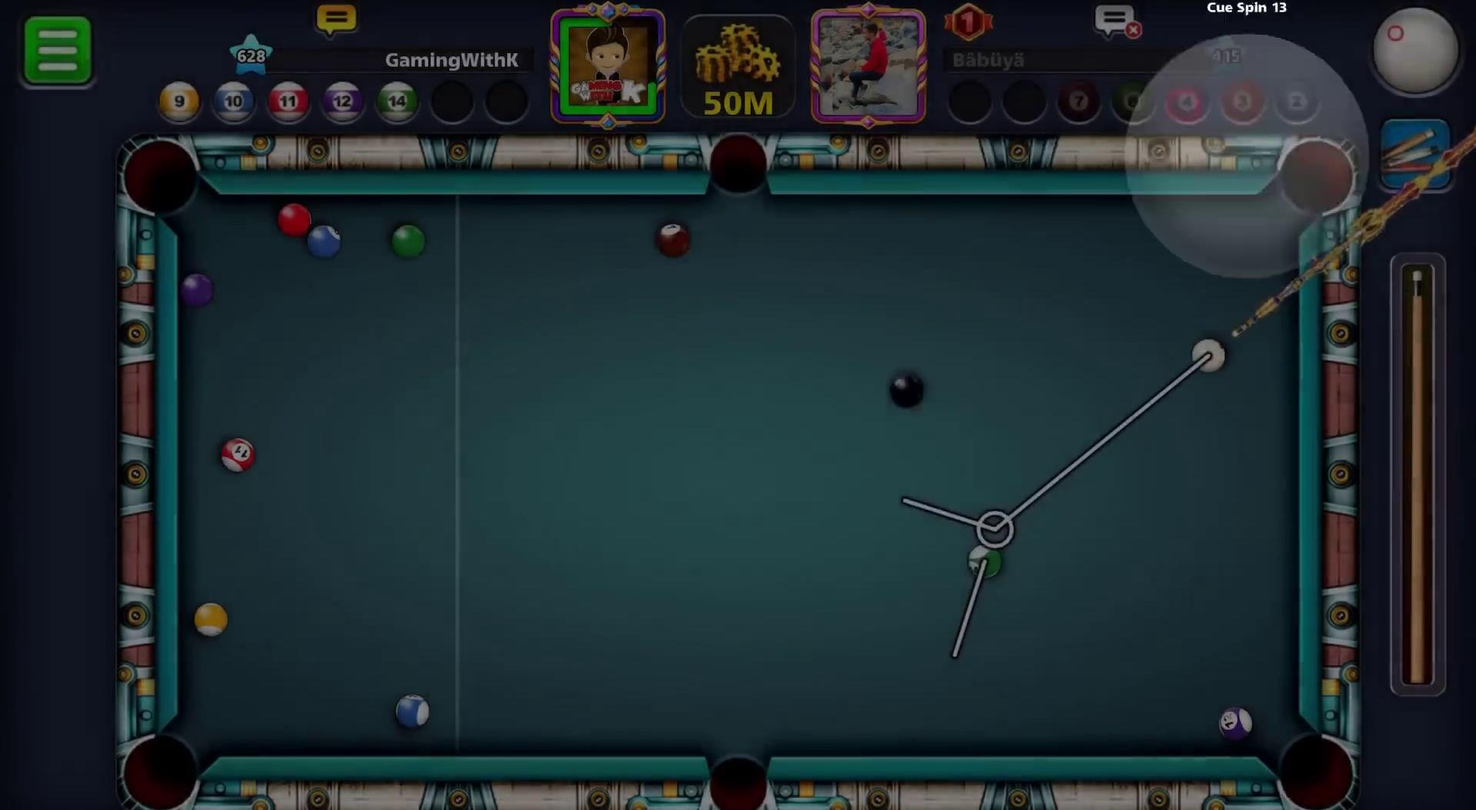Ball: (296, 222, 348, 270), (880, 366, 932, 414), (644, 216, 696, 261), (959, 536, 1005, 584), (274, 198, 312, 246), (1216, 702, 1258, 744), (178, 267, 216, 310), (391, 693, 431, 732), (387, 222, 426, 259), (192, 600, 229, 638), (218, 434, 254, 472)
Force: (1388, 251, 1452, 698)
Guideline: (894, 344, 1214, 664)
Hole: (111, 123, 221, 232), (102, 718, 222, 809), (1261, 126, 1371, 223), (1256, 717, 1365, 809), (692, 122, 783, 216), (689, 739, 785, 809)
Play_Area: (176, 197, 1294, 761)
Spin: (1120, 29, 1376, 286), (1354, 1, 1474, 112)
White: (1185, 329, 1233, 376)
